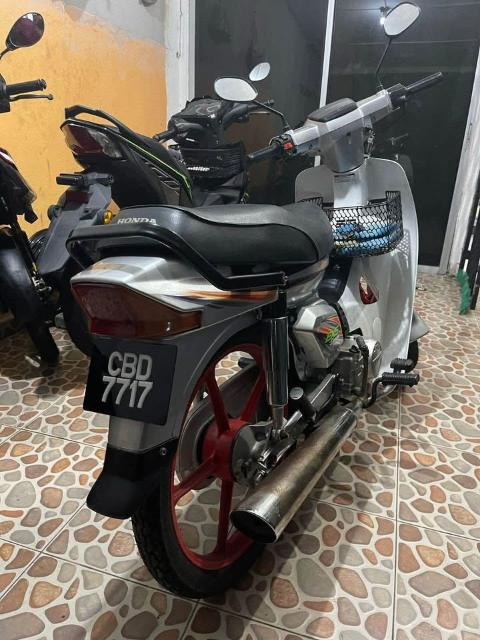License_Plate: (82, 339, 178, 427)
motorcycle: (60, 4, 444, 601), (28, 62, 314, 357)
